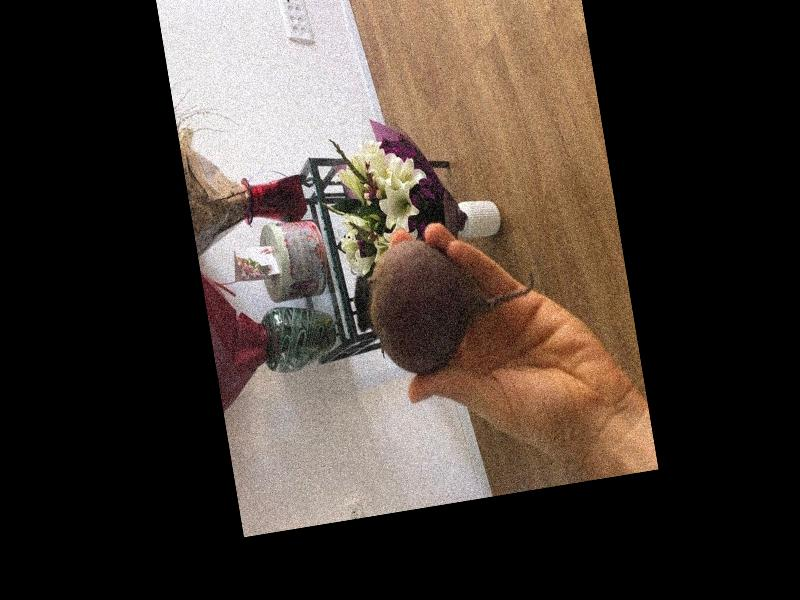Beet: (345, 220, 545, 382)
